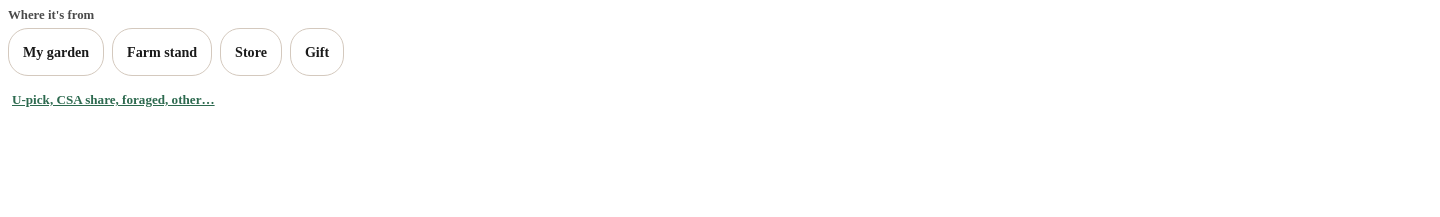
Scenario: WhereFromField — choosing › a tap chooses; a second tap on the chosen chip un-chooses it
Click the radio button labelled "Farm stand" at (162, 52), box [112,28,212,76]
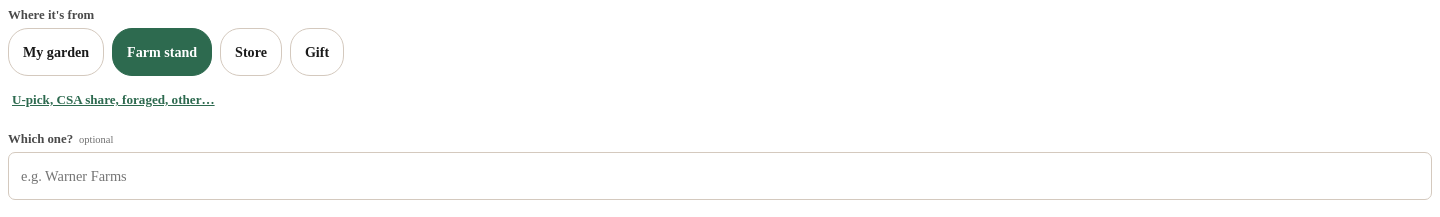
Click the radio button labelled "Farm stand" at (162, 52), box [112,28,212,76]
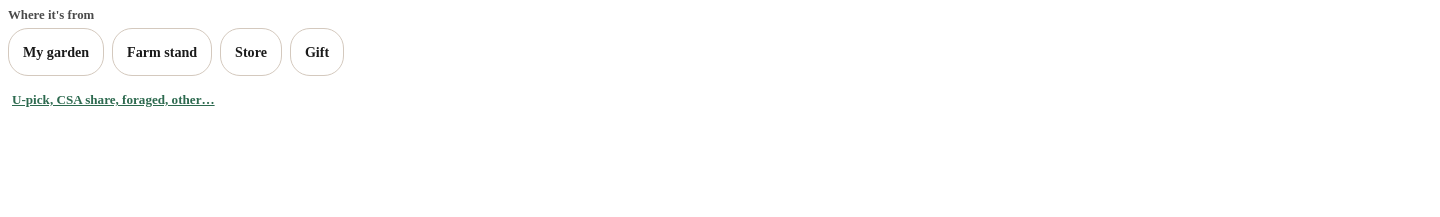
Expected: the label with test id "t-source-label" is gone
